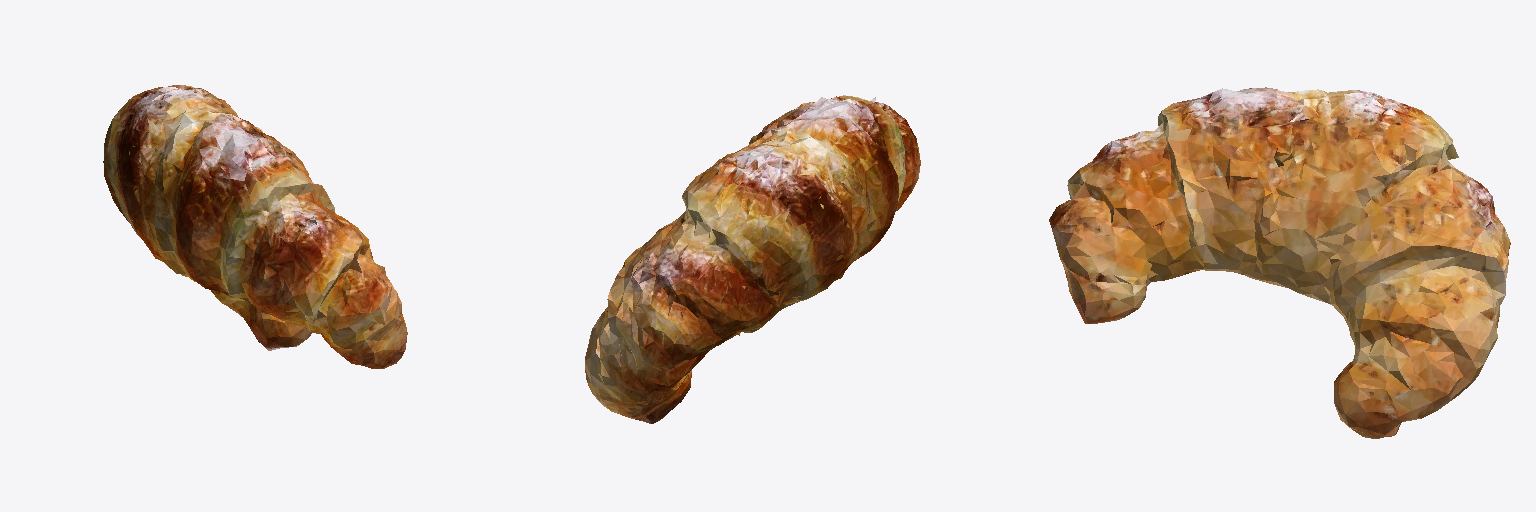
3 renders of one model, left to right at view 1: azimuth 30°, elevation 25°; view 2: azimuth 150°, elevation 25°; view 3: azimuth 270°, elevation 25°, orthographic.
Parts seen in each view (by area): view 1: model; view 2: model; view 3: model.
Boxes of the visible parts, x1,y1,x2,y2 form: model: [103, 85, 407, 368]; model: [585, 95, 920, 423]; model: [1049, 87, 1510, 438].
Size of the model in its own units: 0.5444 by 0.7385 by 1.07.
Materials: 1 (1 with a texture image).